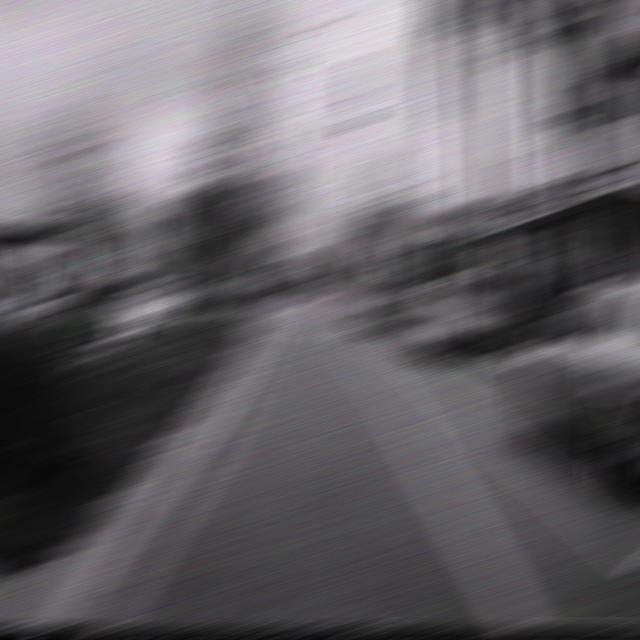pedestrianCrossing: (376, 219, 413, 255)
